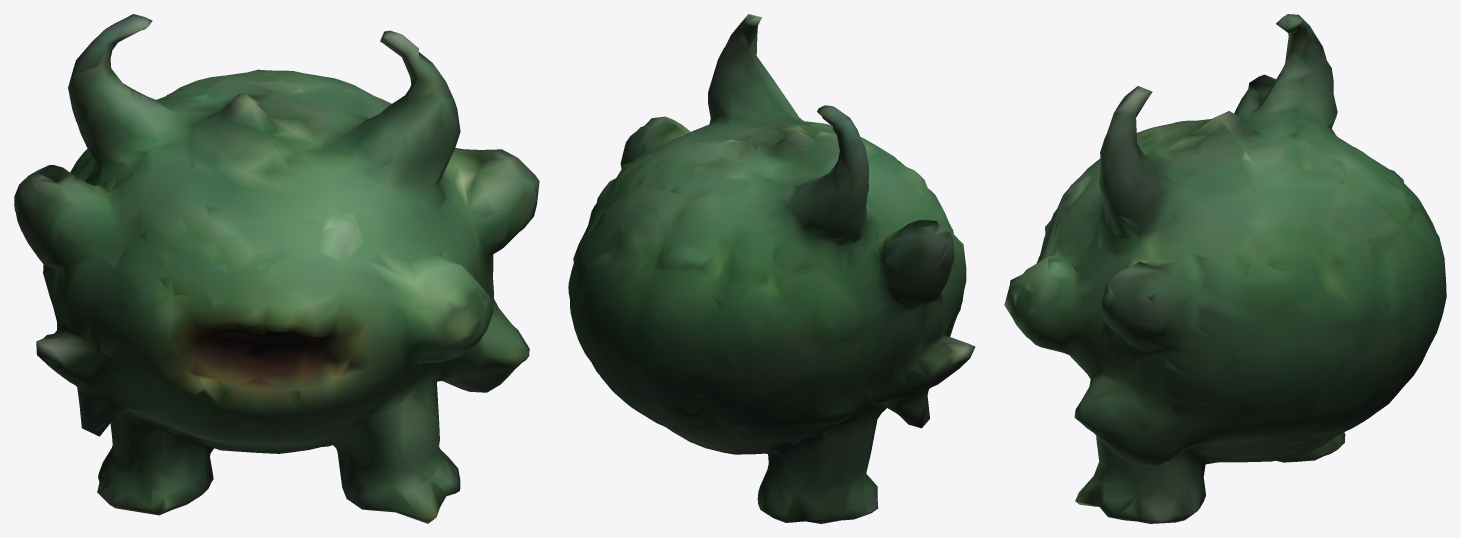
The model's file is slime.glb.
The picture shows the model from 3 angles, left to right: view 1: azimuth 30°, elevation 25°; view 2: azimuth 150°, elevation 25°; view 3: azimuth 270°, elevation 25°; orthographic projection. The views are drawn at different scales.
Parts seen in each view (by area): view 1: geometry_0; view 2: geometry_0; view 3: geometry_0.
Part boxes in pixels (bbox=[...]): geometry_0: bbox=[14, 14, 539, 523]; geometry_0: bbox=[568, 14, 975, 523]; geometry_0: bbox=[1004, 14, 1446, 523].
Bounding box in the file's own units: 0.9444 × 0.9628 × 0.9101.
